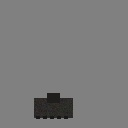armoured_vehicle: (34, 98, 73, 118)
